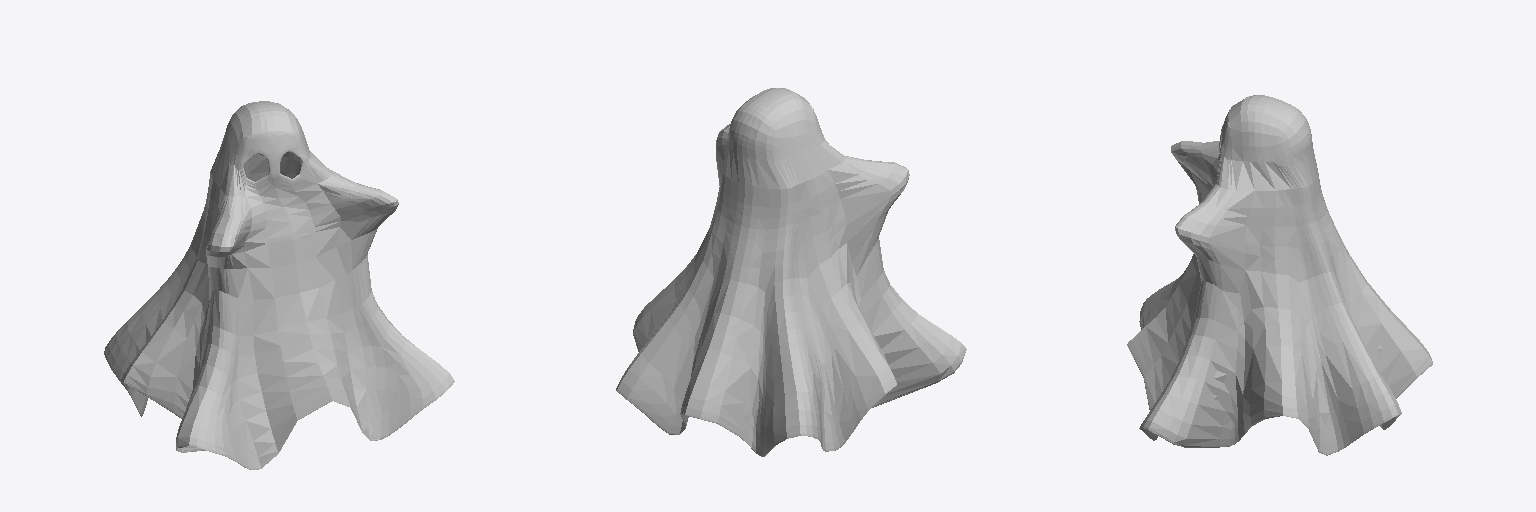
3 views of the same model, side by side, from view 1: azimuth 30°, elevation 25°; view 2: azimuth 150°, elevation 25°; view 3: azimuth 270°, elevation 25° (orthographic).
Visible parts, largest first — view 1: youlinguu2:Group3 walk1; view 2: youlinguu2:Group3 walk1; view 3: youlinguu2:Group3 walk1.
Boxes of the visible parts, x1=… form: youlinguu2:Group3 walk1: x1=104, y1=101, x2=454, y2=469; youlinguu2:Group3 walk1: x1=616, y1=88, x2=966, y2=456; youlinguu2:Group3 walk1: x1=1127, y1=95, x2=1432, y2=455.
Bounding box in the file's own units: 35.95 × 39.33 × 35.07.